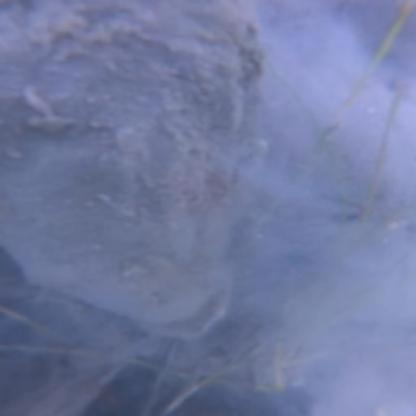Oyster- Indeterminate: (0, 0, 272, 343)
